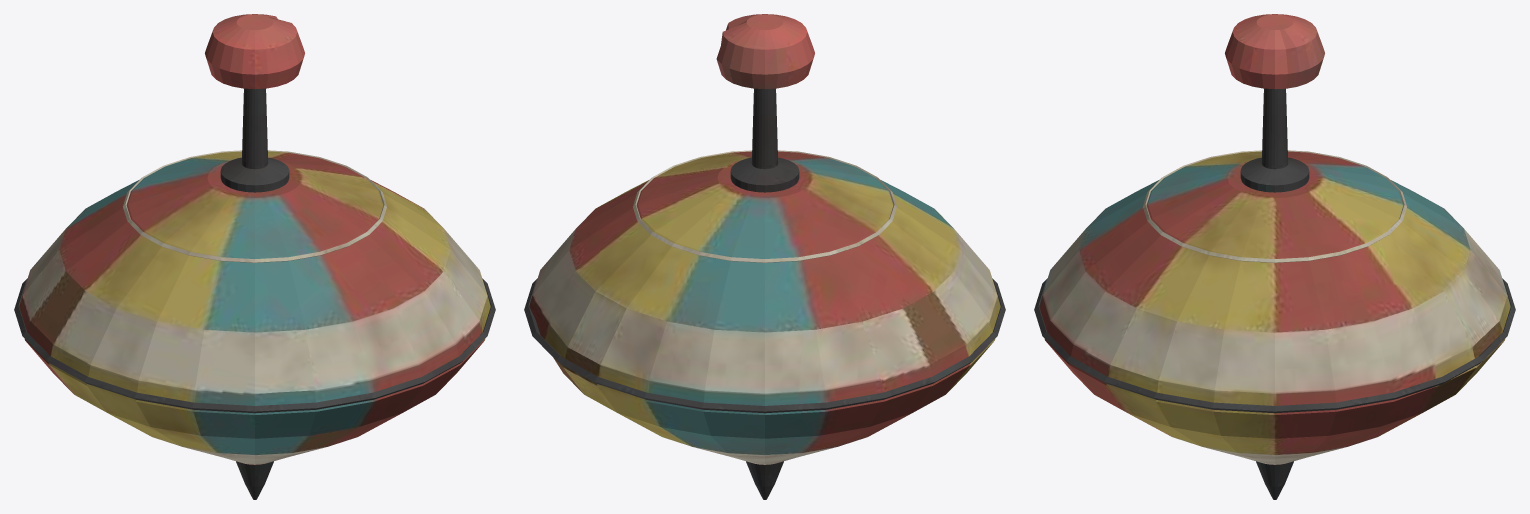
The model's file is T09_spinning_top.glb.
3 views of the same model, side by side, from view 1: azimuth 30°, elevation 25°; view 2: azimuth 150°, elevation 25°; view 3: azimuth 270°, elevation 25° (orthographic).
Parts seen in each view (by area): view 1: Pressed tin shell; view 2: Pressed tin shell; view 3: Pressed tin shell.
Part boxes in pixels (x1=…): Pressed tin shell: x1=14, y1=14, x2=495, y2=499; Pressed tin shell: x1=524, y1=14, x2=1005, y2=499; Pressed tin shell: x1=1034, y1=14, x2=1515, y2=499.
Bounding box in the file's own units: 0.1831 × 0.2 × 0.1831.
7 materials, 7 textured.
